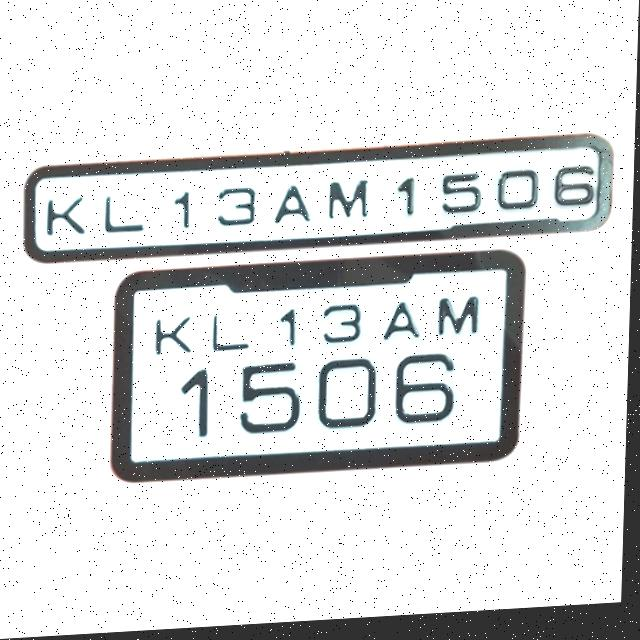plate: (109, 252, 528, 489), (17, 133, 619, 270)
